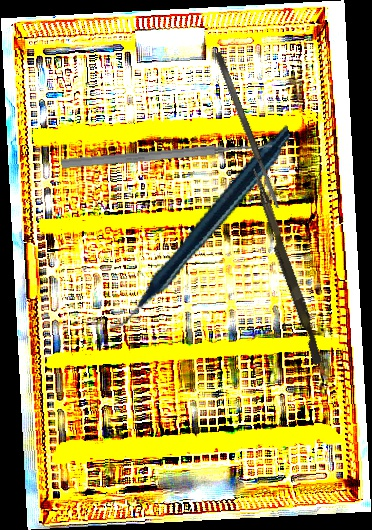Handpiece: (74, 123, 324, 331)
Pusher: (244, 166, 328, 366), (60, 138, 273, 172)
Spatula Surgical: (213, 50, 282, 211)
